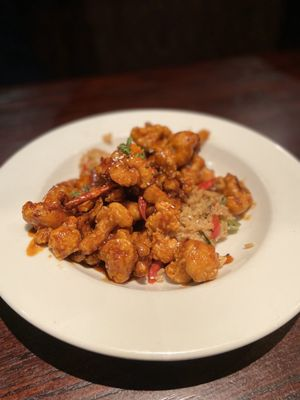curry: (0, 47, 300, 390)
